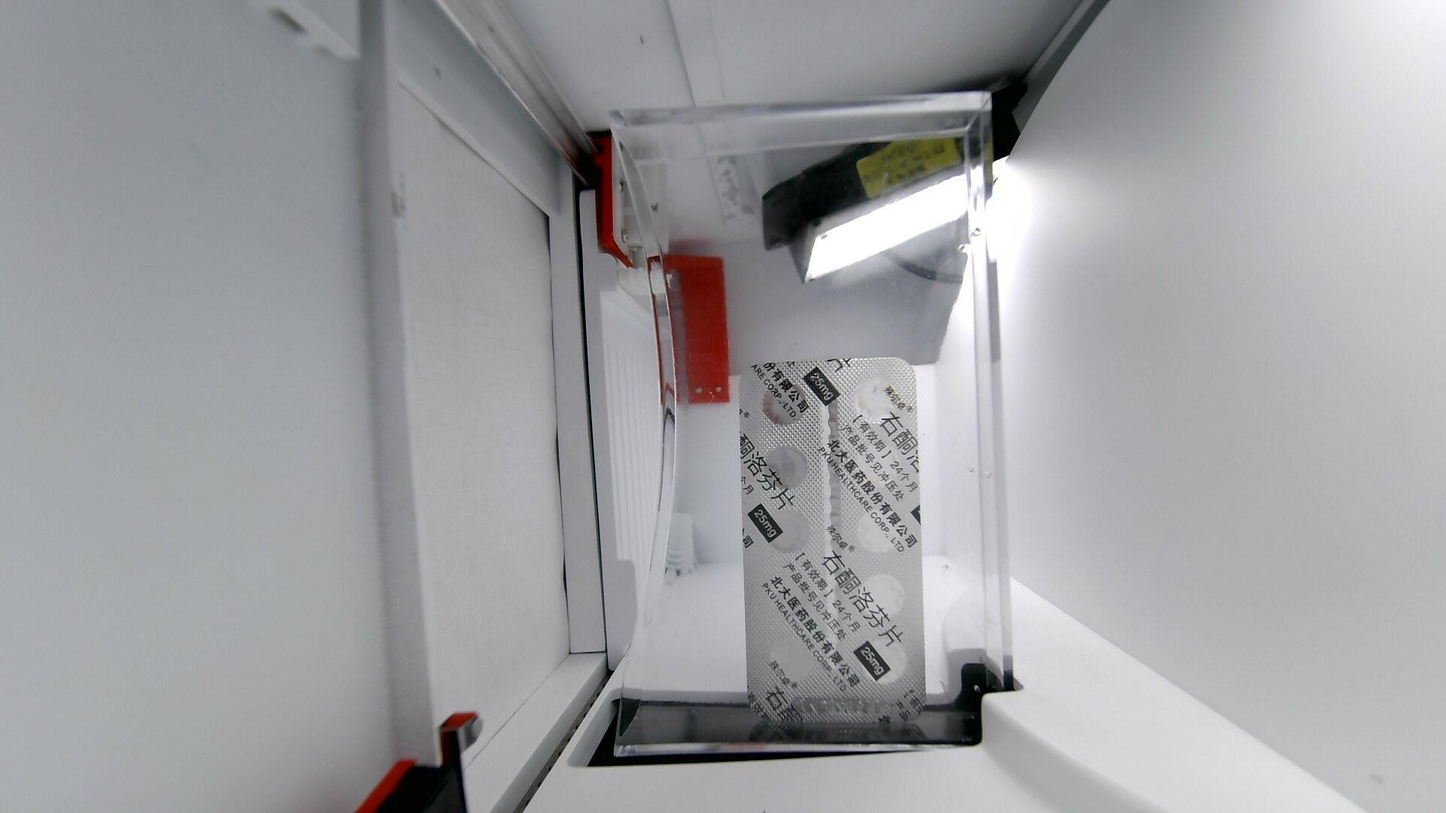Pill Back: (763, 567, 825, 627), (844, 633, 910, 684), (852, 571, 905, 625), (769, 637, 828, 683), (854, 509, 913, 550), (755, 441, 807, 485), (851, 444, 905, 485), (761, 383, 813, 422), (766, 504, 810, 545), (856, 377, 896, 420)
